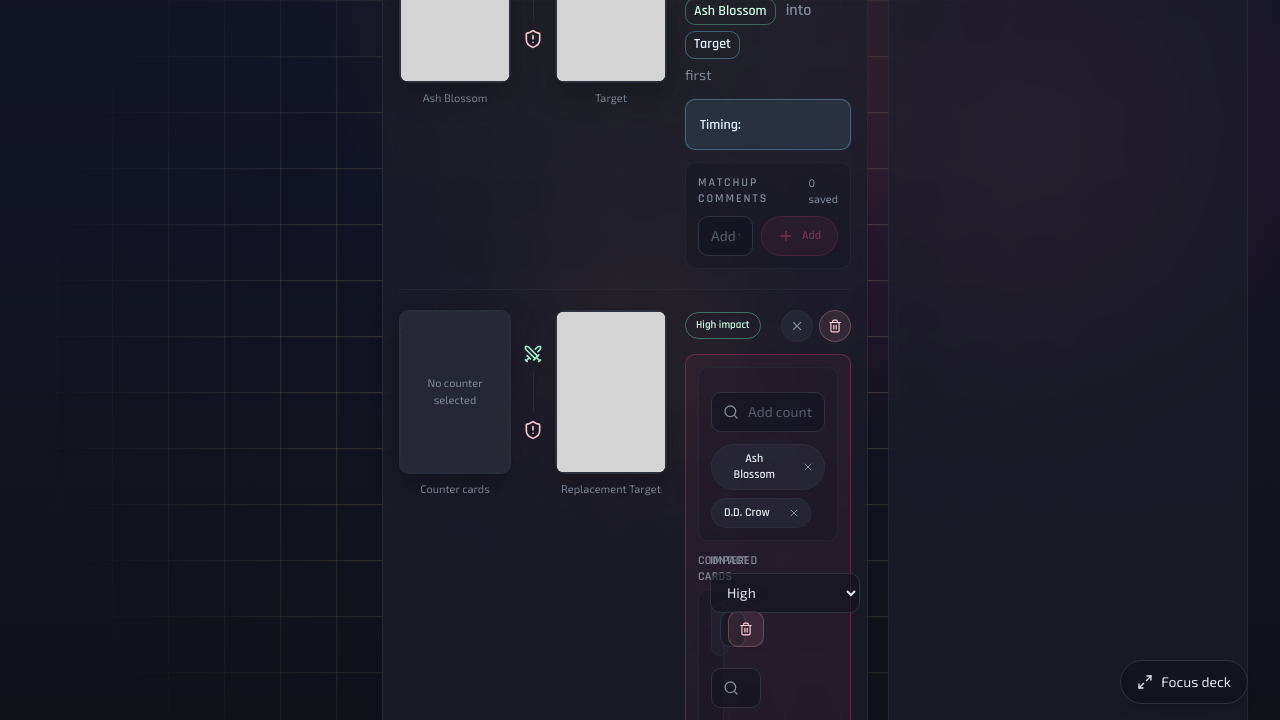
DeckCounterGuide targetless matchups › keeps name drafts local and replaces a shared counter only in the edited matchup
Earlier steps of the test are not shown.
Later steps or results of the test are not shown.
(page scrolled)
Click the button named "Delete saved suggestion Ash Blossom": coordinates (808, 467) [797,455,820,479]
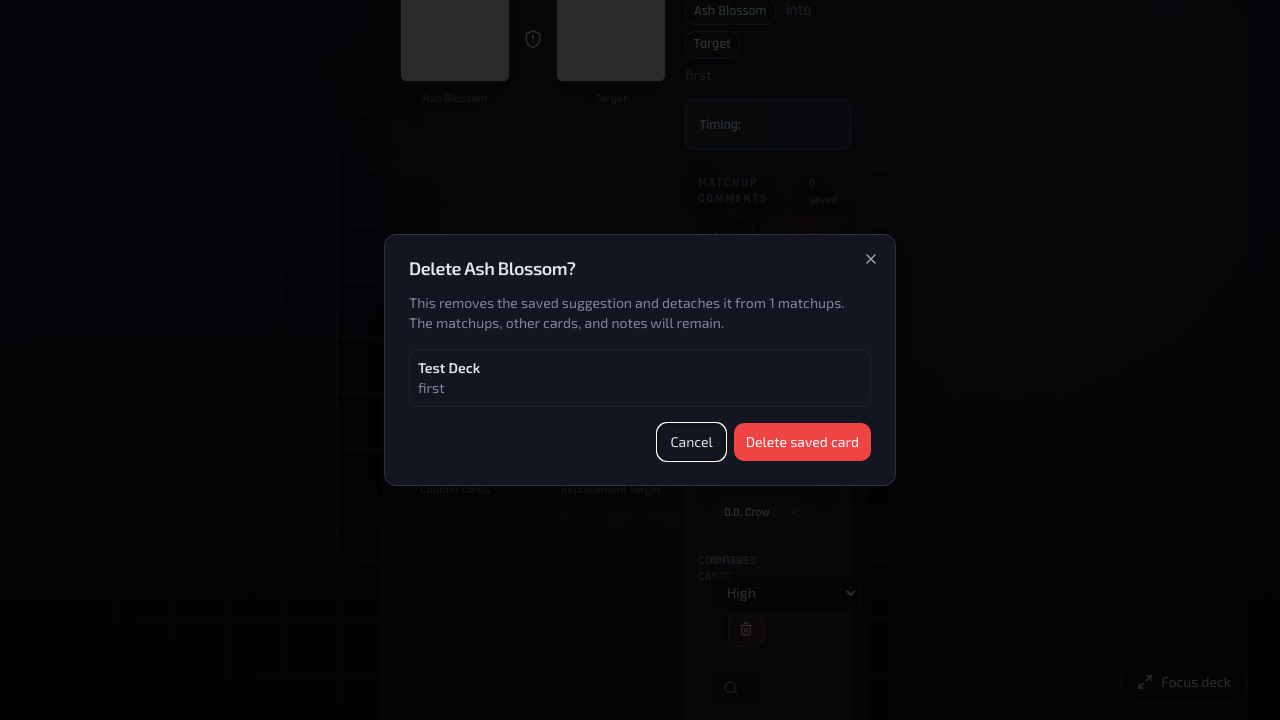
Check: the text "first" is shown, box [418,379,444,396]
